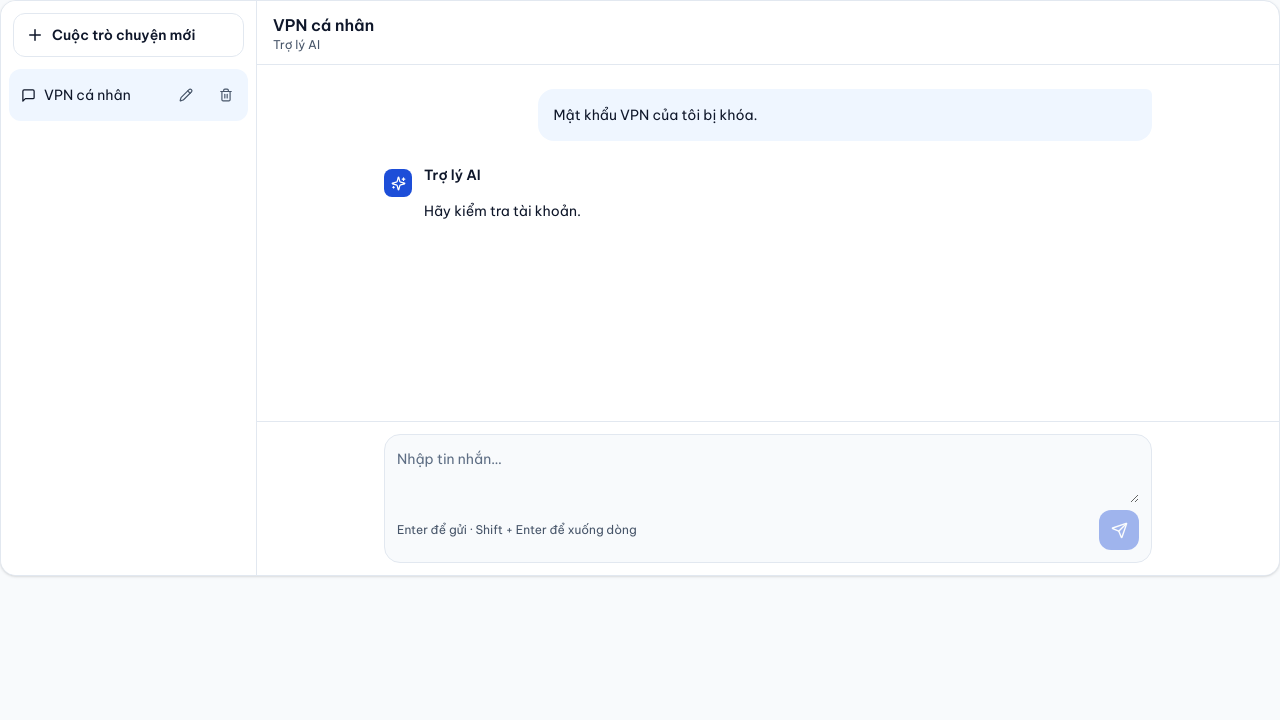
Test: loads persisted history and separates a newly created conversation
Expected: the text "Hãy kiểm tra tài khoản." is shown, x1=424 y1=202 x2=581 y2=220
Click the button "Cuộc trò chuyện mới" at (128, 35), box x1=13 y1=13 x2=244 y2=57
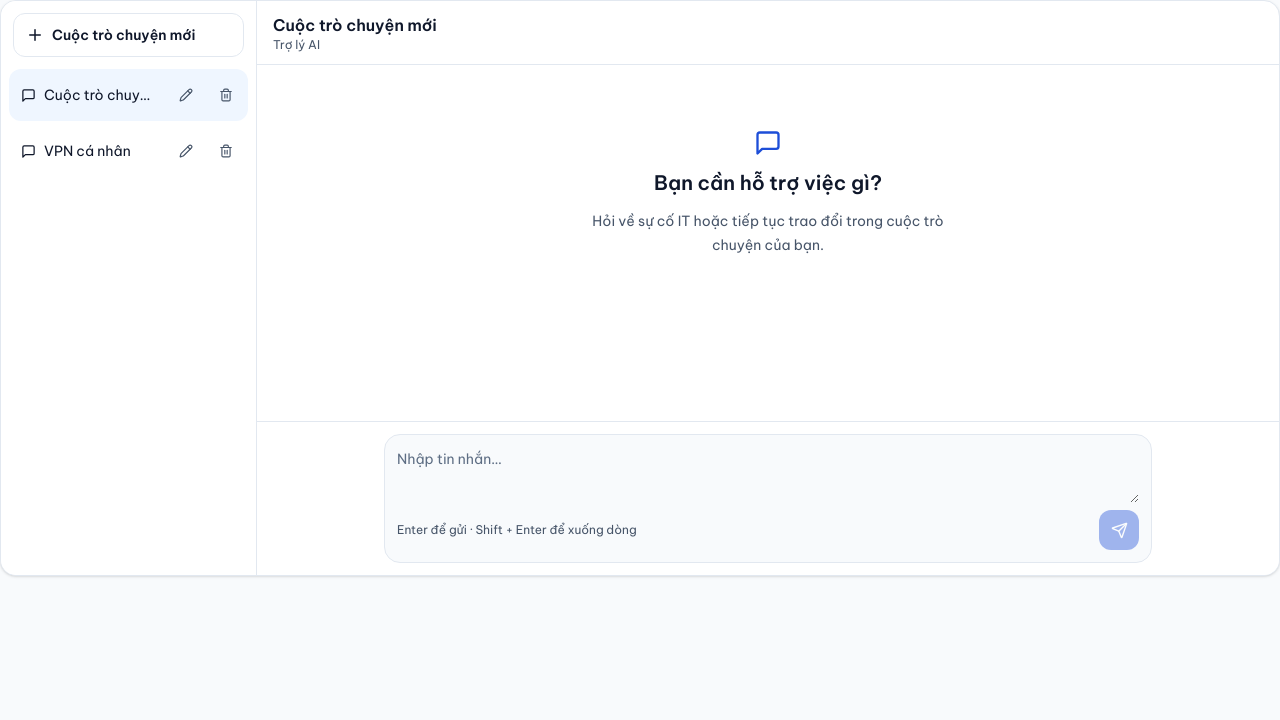
Now the text "Hãy kiểm tra tài khoản." is gone
Type "Wi-Fi văn phòng bị mất kết nối." into the text box named "Câu hỏi hỗ trợ IT" at (768, 475), box x1=397 y1=447 x2=1139 y2=503
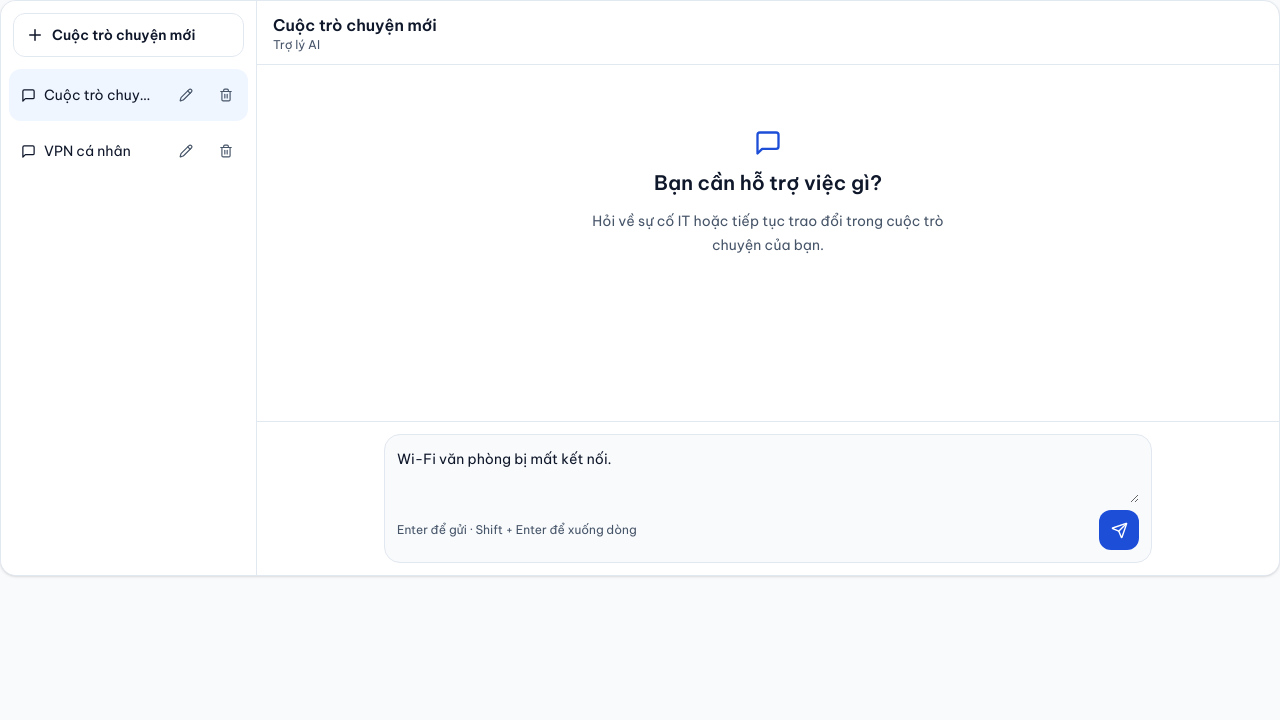
Now the button named "Gửi câu hỏi" is enabled
Click the button named "Gửi câu hỏi" at (1119, 530), box x1=1099 y1=510 x2=1139 y2=550
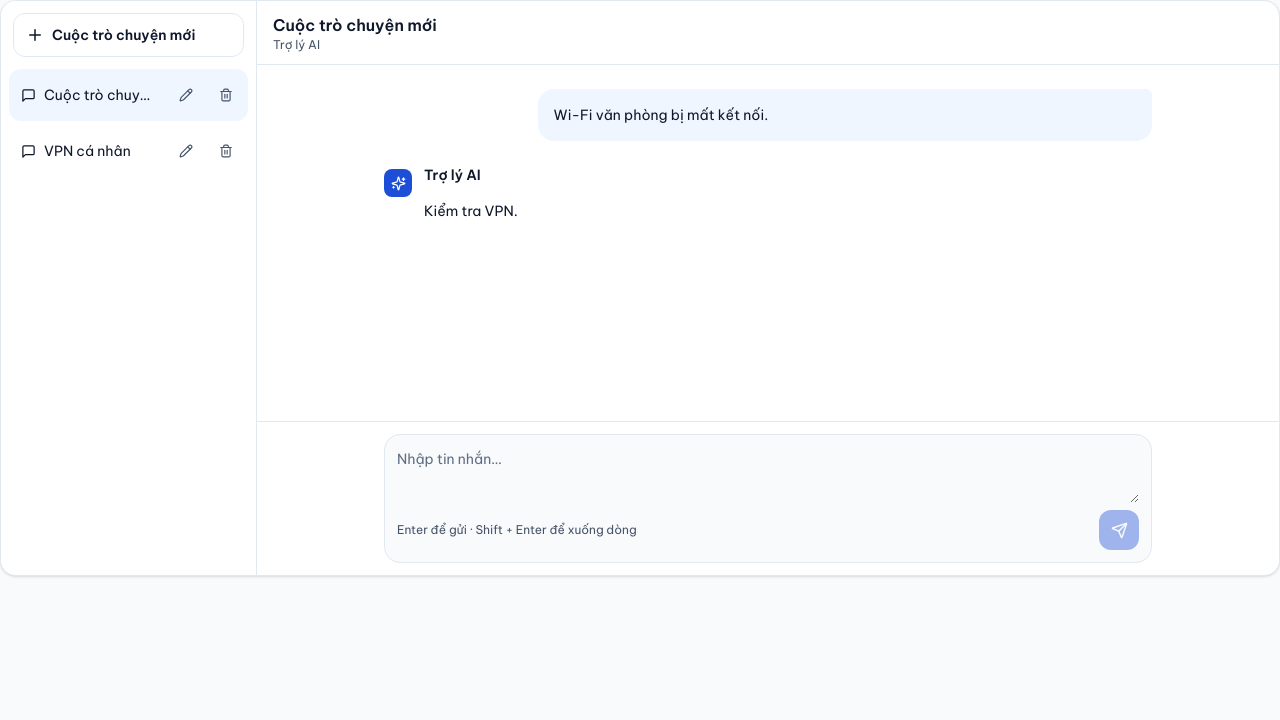
Click the button "VPN cá nhân" at (88, 151), box x1=13 y1=129 x2=164 y2=173
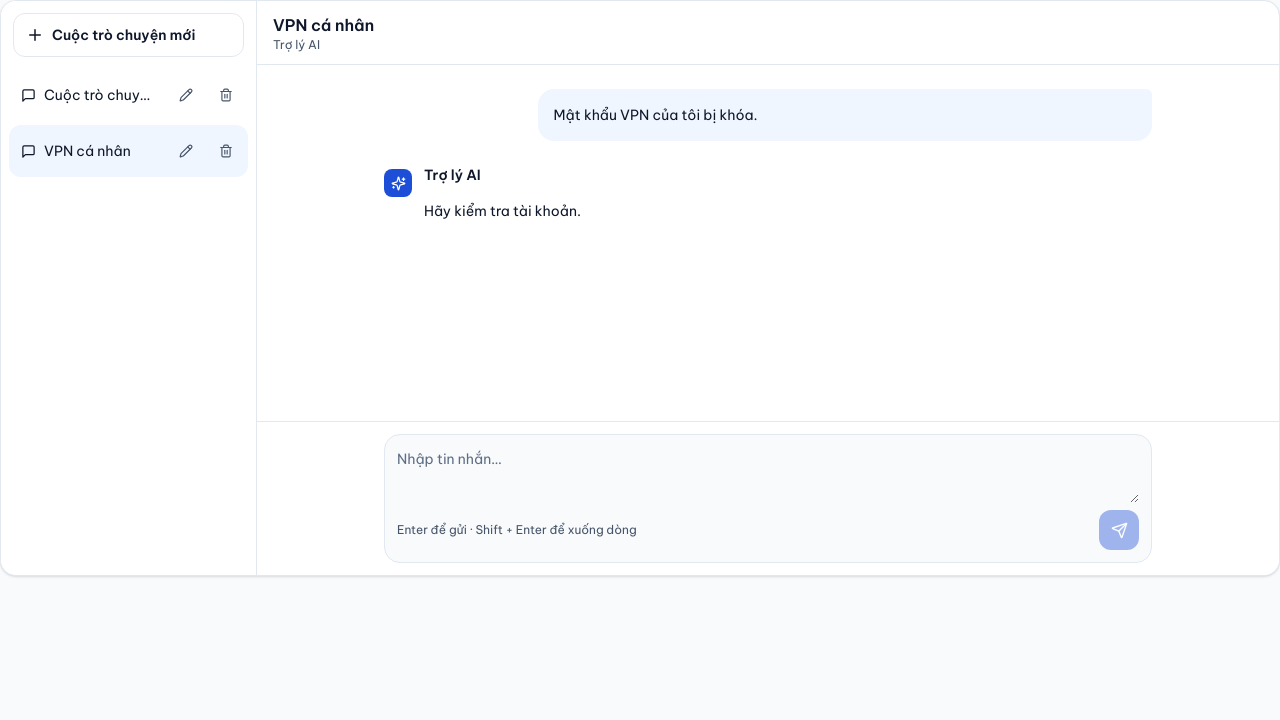
Now the text "Hãy kiểm tra tài khoản." is shown, box x1=424 y1=202 x2=581 y2=220
Now the text "Wi-Fi văn phòng bị mất kết nối." is gone
